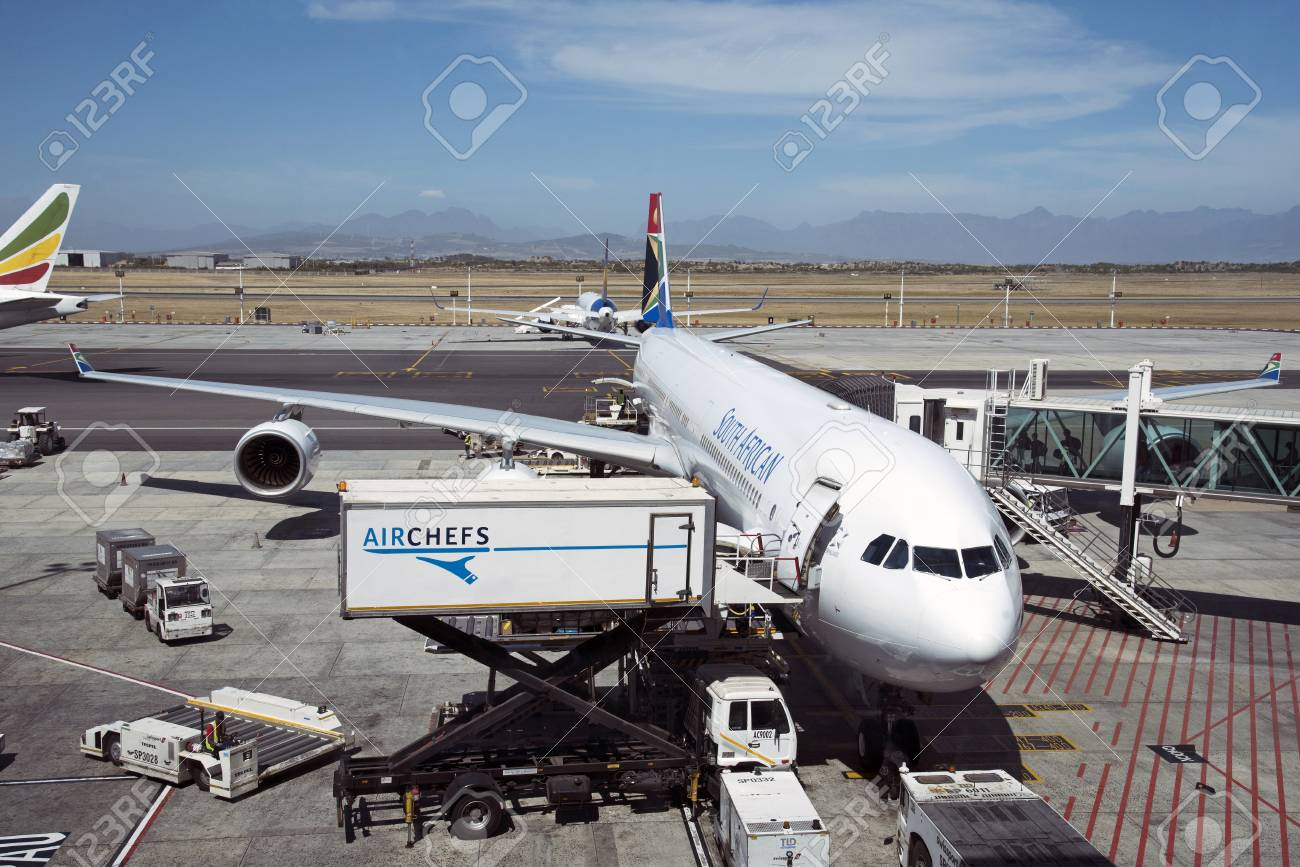Catering truck: (308, 444, 819, 837)
